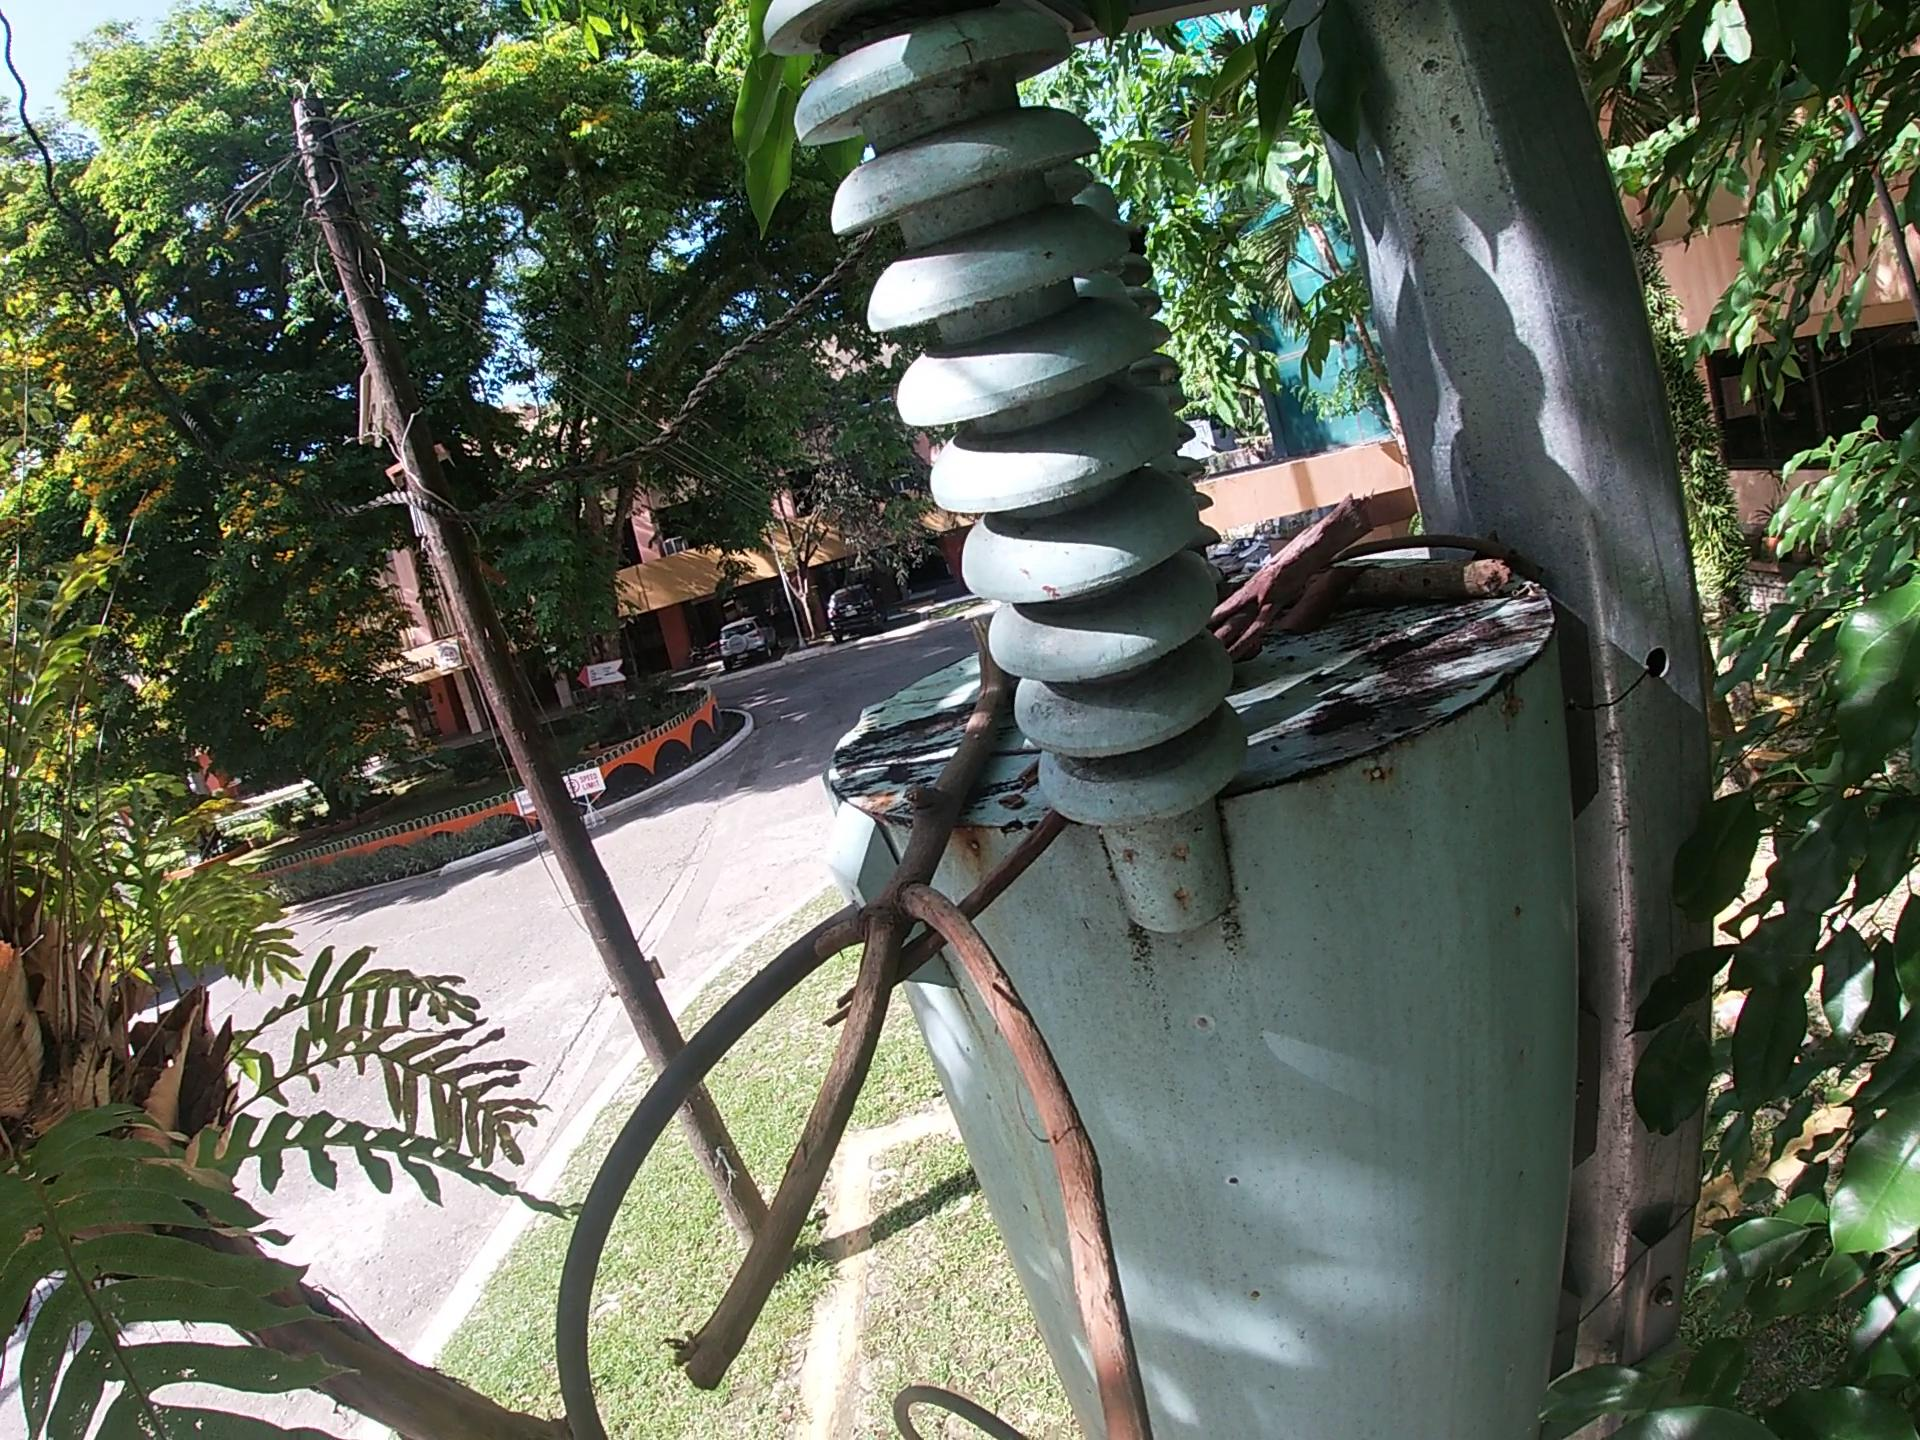leaf: (1290, 563, 1373, 638)
tree branch: (655, 602, 1175, 1435), (821, 808, 1076, 1032), (1197, 492, 1383, 672), (1326, 557, 1516, 619), (1333, 525, 1531, 572)
